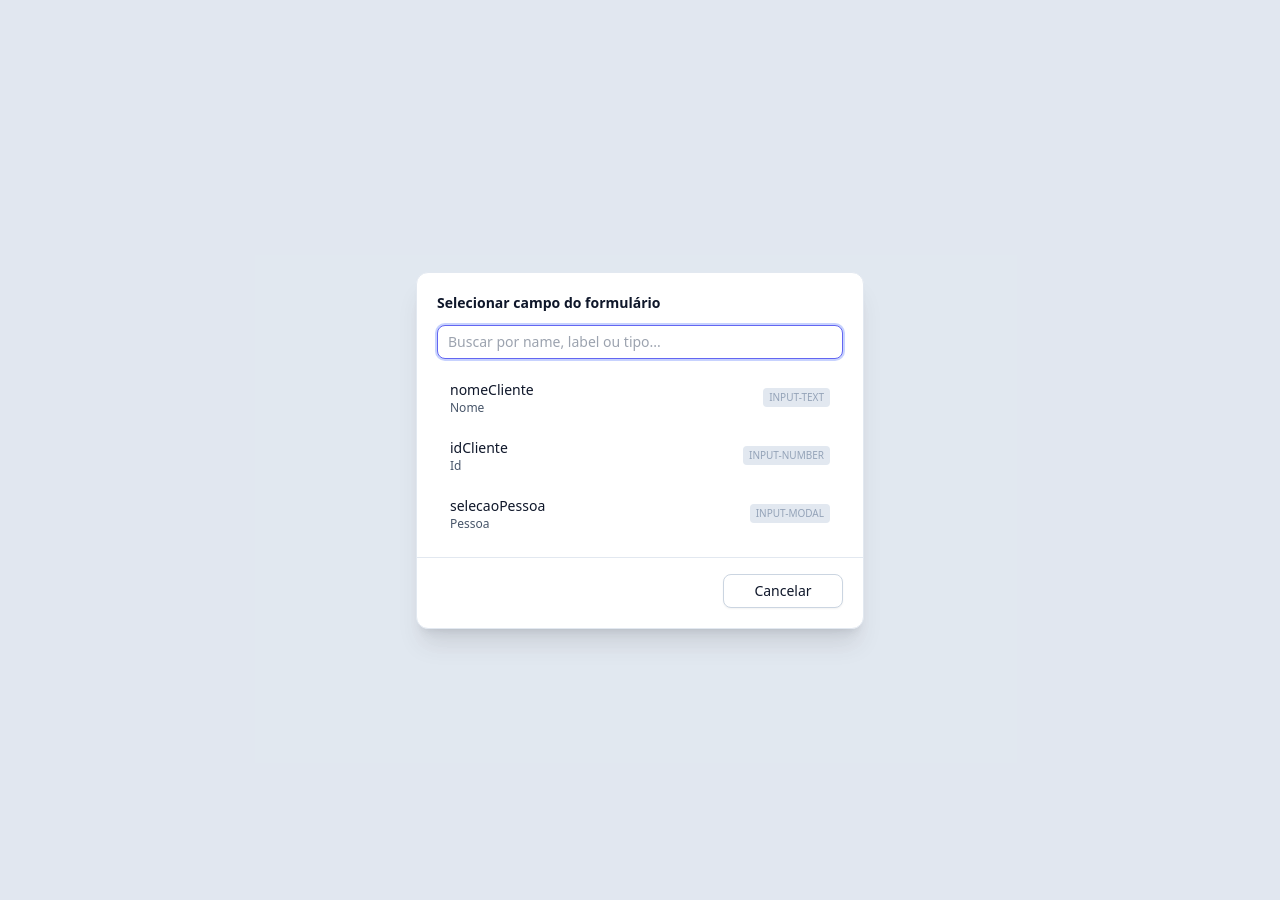
Test: FieldPickerHost › filtra os campos pela busca (name, label ou tipo)
The image size is (1280, 900).
Type "idCli" into the field named "Buscar campo" at coordinates (640, 342), box [437, 324, 843, 358]
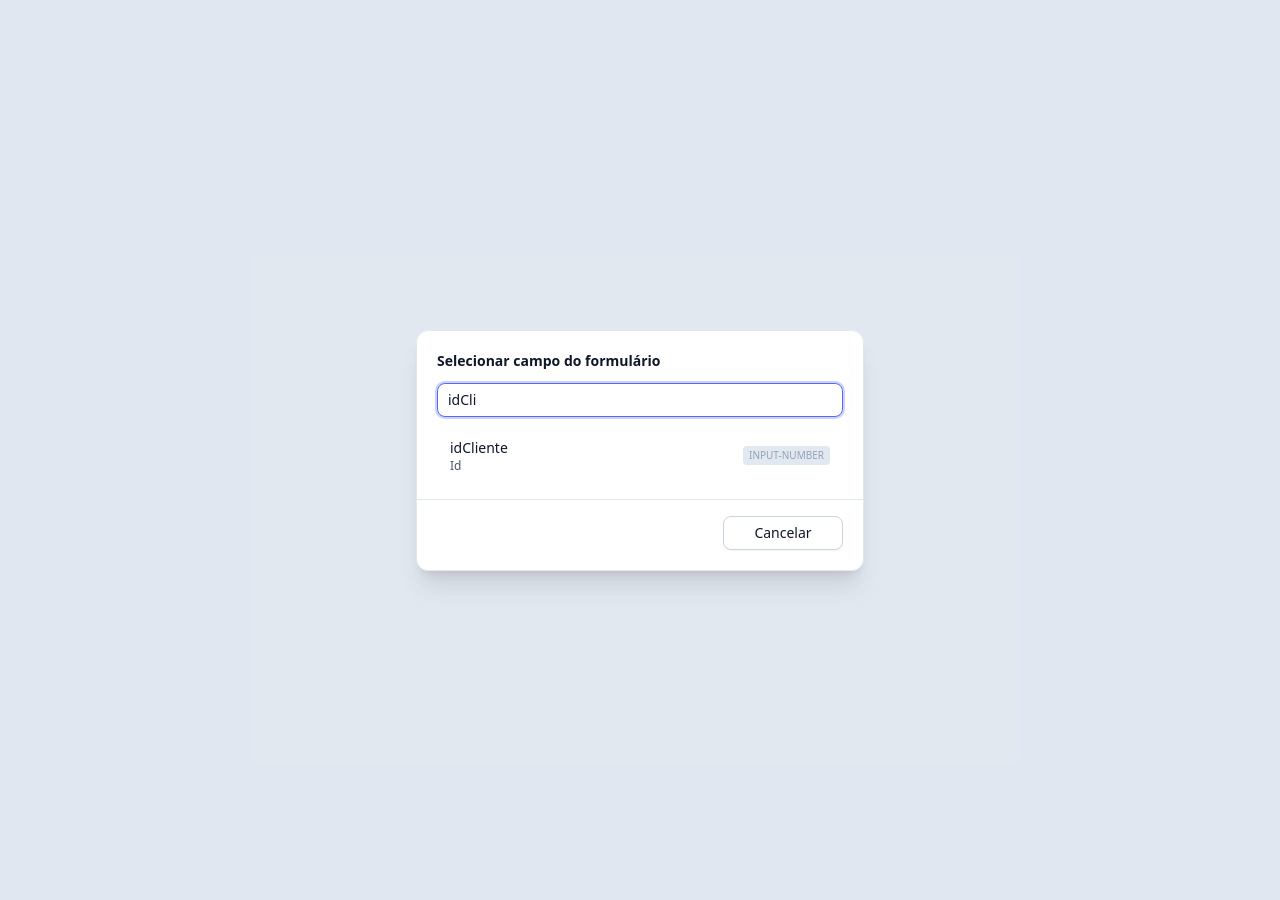
Expected: the text "idCliente" is shown, [450, 438, 508, 458]
Result: the button "nomeCliente" is gone
